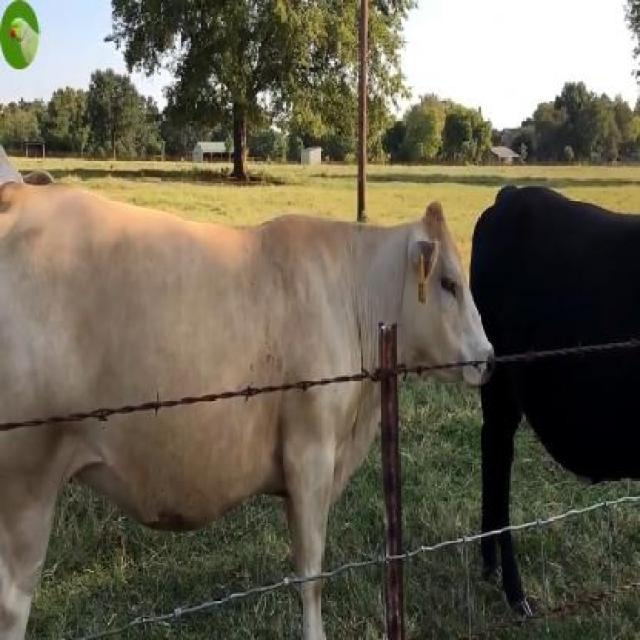Cow: (0, 200, 494, 638)
